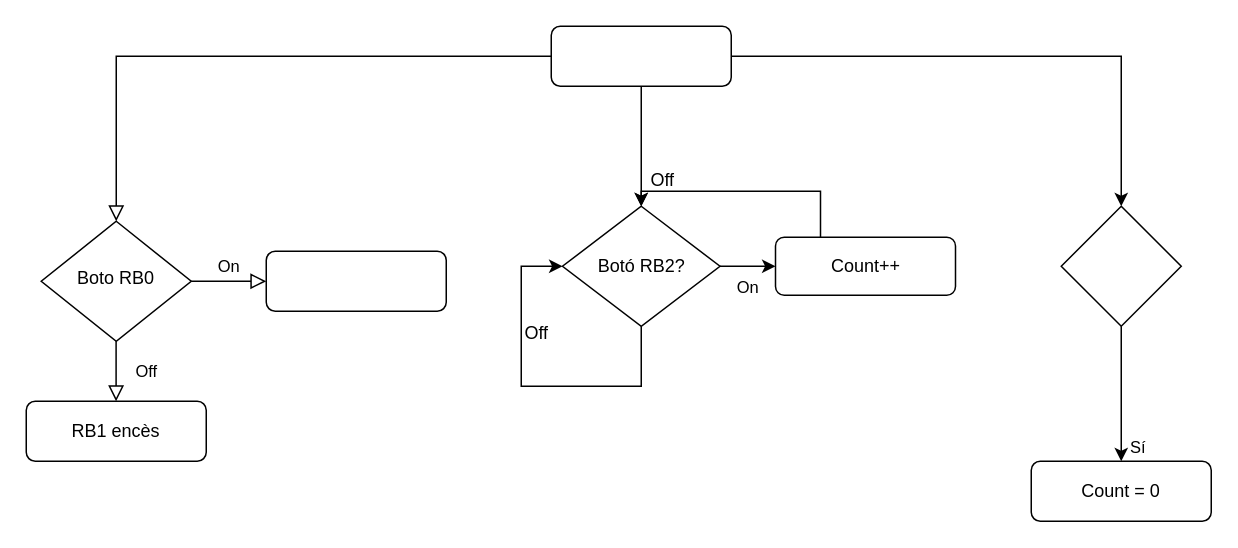
Image size: 1238x548. Some labels were removed from this diagram. Here are the shapes that lost their labels. From the top down, the centre of each, then its label:
At point 640,55: "Inici del programa".
At point 355,280: "RB1 apagat".
At point 1120,265: "Released RB3?".
